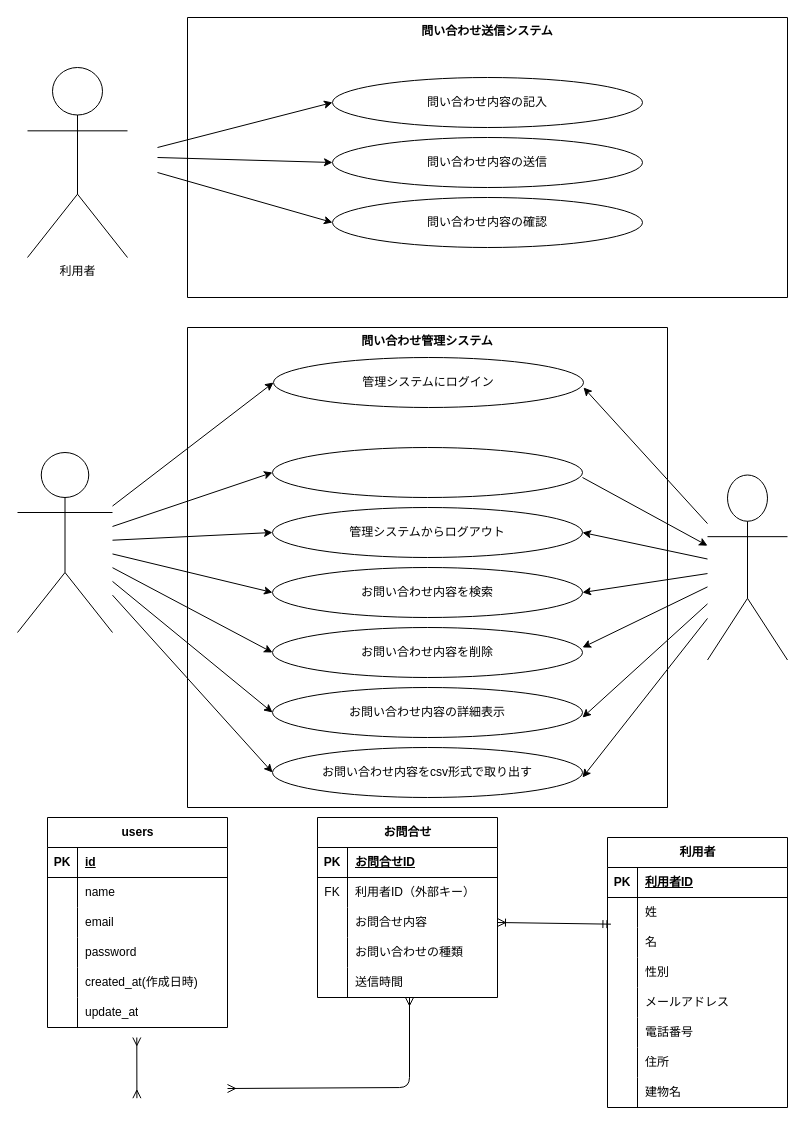
This 805x1125 diagram has some shape labels left out. The centre of each missing label's shape, as x and y in pixels:
新規ユーザーの作成・登録: pixel 427 472
新規管理者: pixel 747 567
管理者: pixel 64 542
